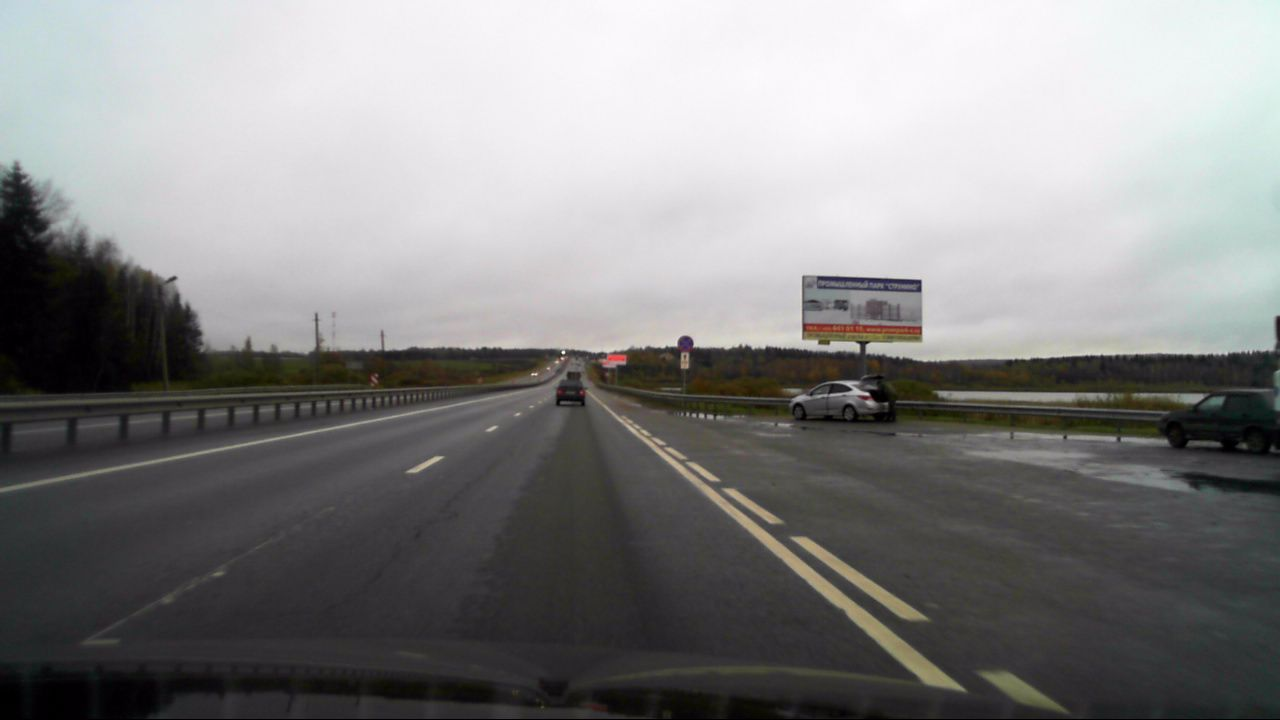No Parking: (677, 335, 693, 351)
